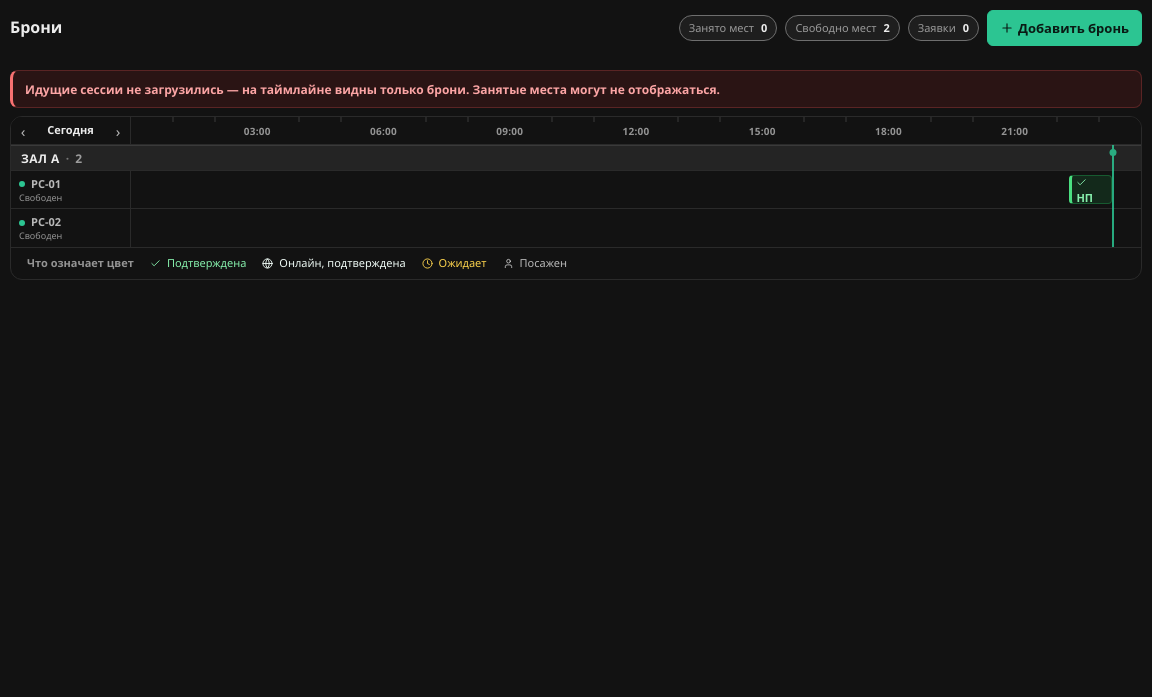
it: BackendBookingWorkspace no-show › отмечает неявку с текущей версией брони и называет удержанную сумму
Click the button with aria-label "Не приехавший гость".
click(1090, 190)  # box [1069, 175, 1112, 204]
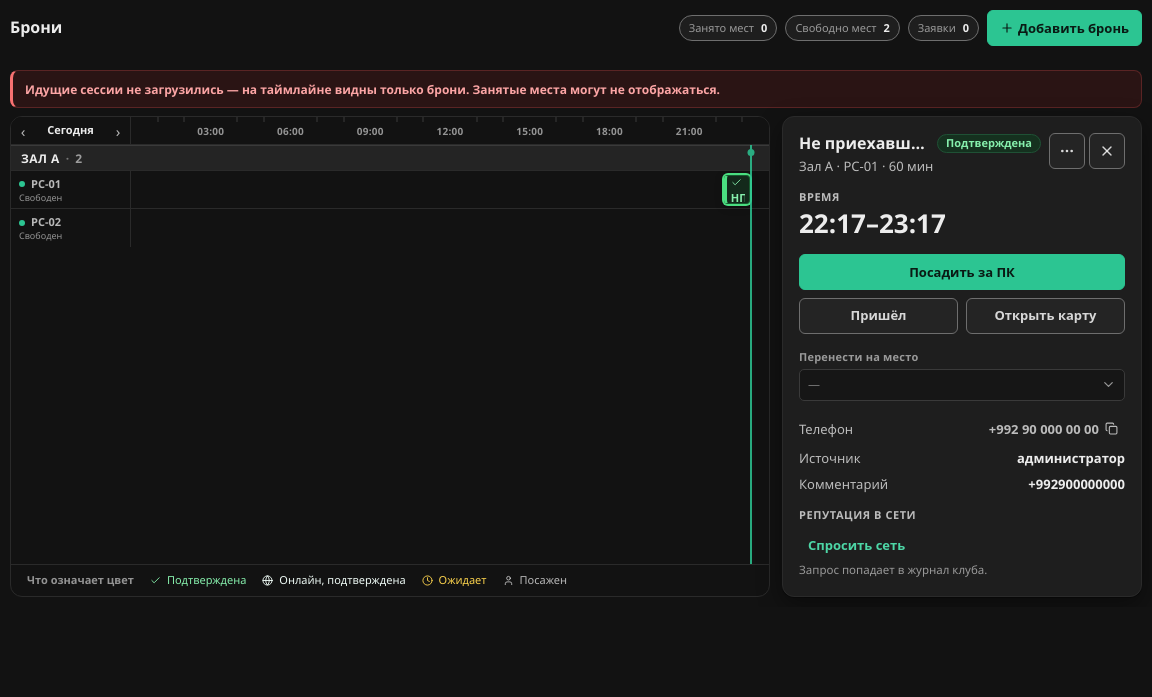
Click the button named "Действия с бронью".
click(1067, 151)  # box [1049, 133, 1085, 169]
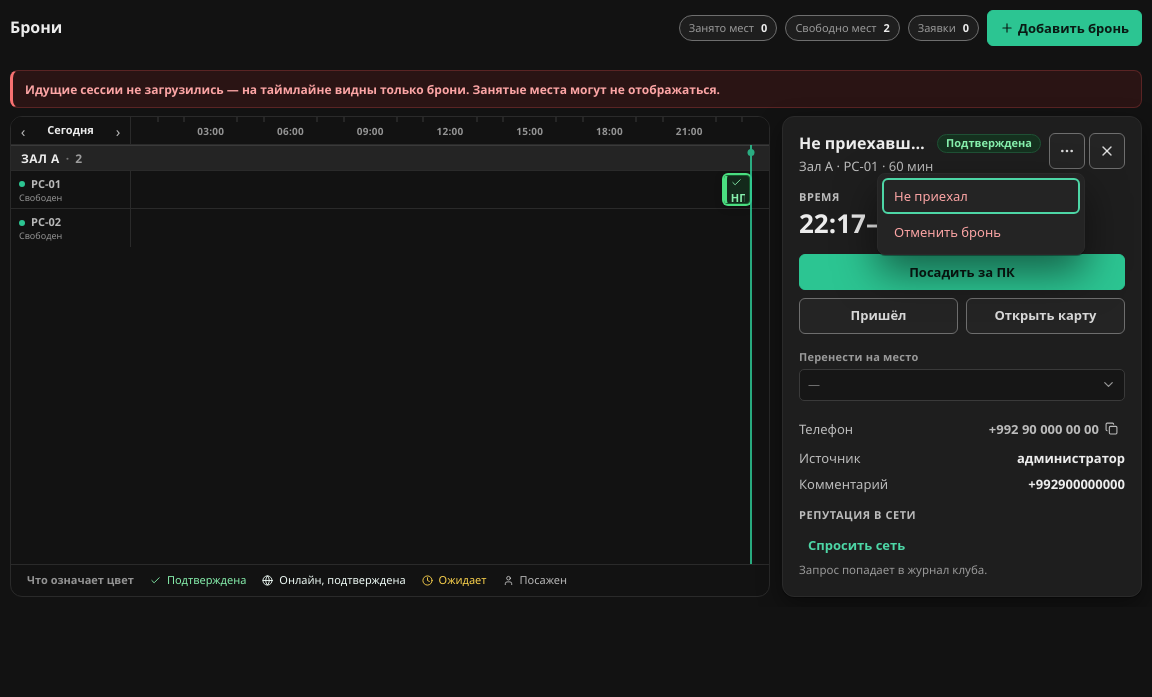
Click the menu item "Не приехал".
click(981, 196)  # box [882, 178, 1080, 214]
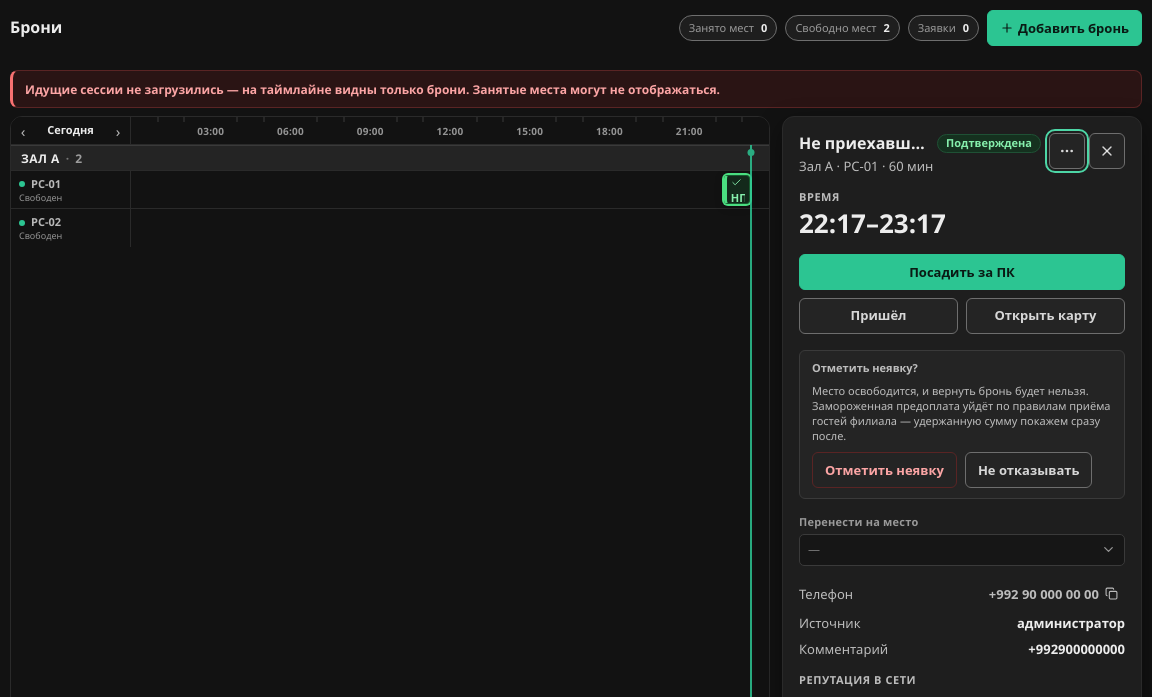
Click the button "Отметить неявку".
click(884, 470)  # box [812, 452, 957, 488]
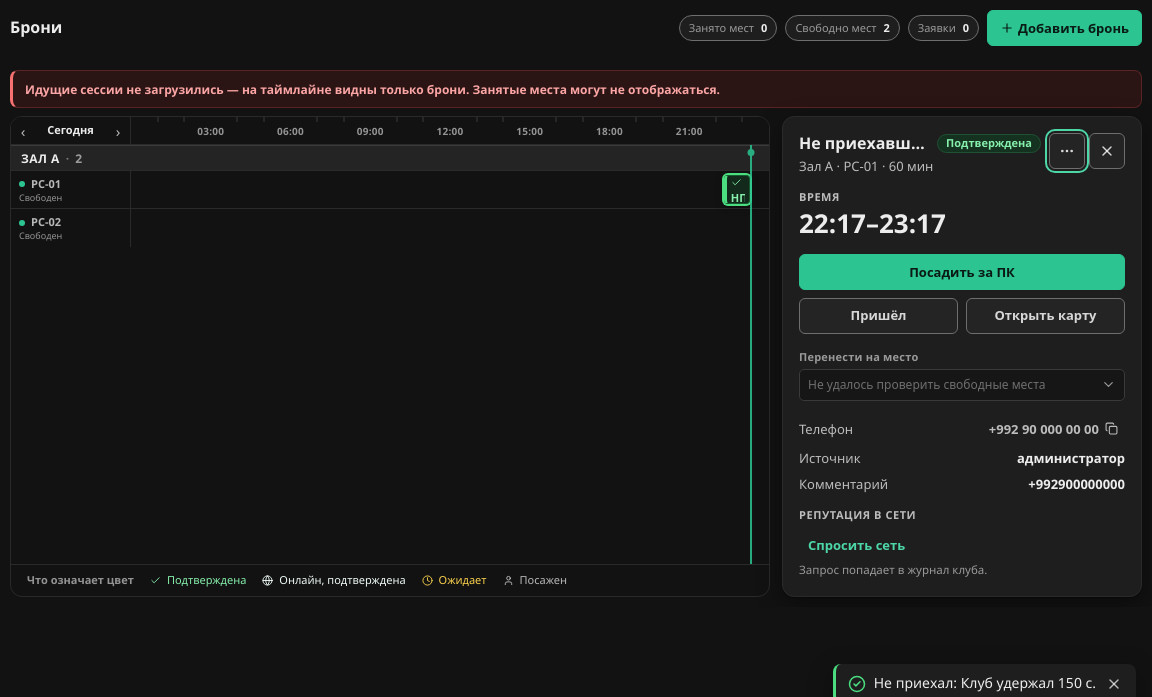
expect the text "Не приехал: Клуб удержал 150 с." is shown: met, box [874, 674, 1096, 693]
